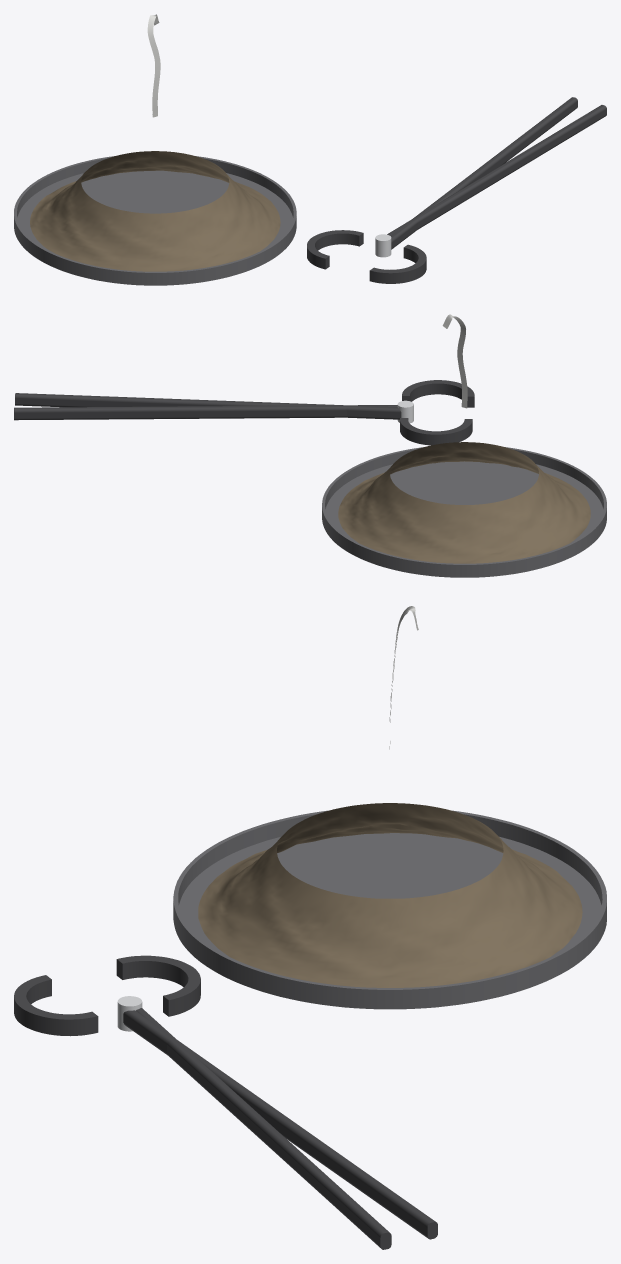
Rendered from setup.glb.
3 views of the same model, one above another, from view 1: azimuth 30°, elevation 25°; view 2: azimuth 150°, elevation 25°; view 3: azimuth 270°, elevation 25° (orthographic). The views are drawn at different scales.
Parts seen in each view (by area): view 1: setup; view 2: setup; view 3: setup.
Part boxes in pixels (x1,y1,x2,y2): setup: (14, 14, 606, 285); setup: (14, 314, 606, 577); setup: (14, 606, 606, 1249).
Size of the model in its own units: 329 by 113 by 193.
